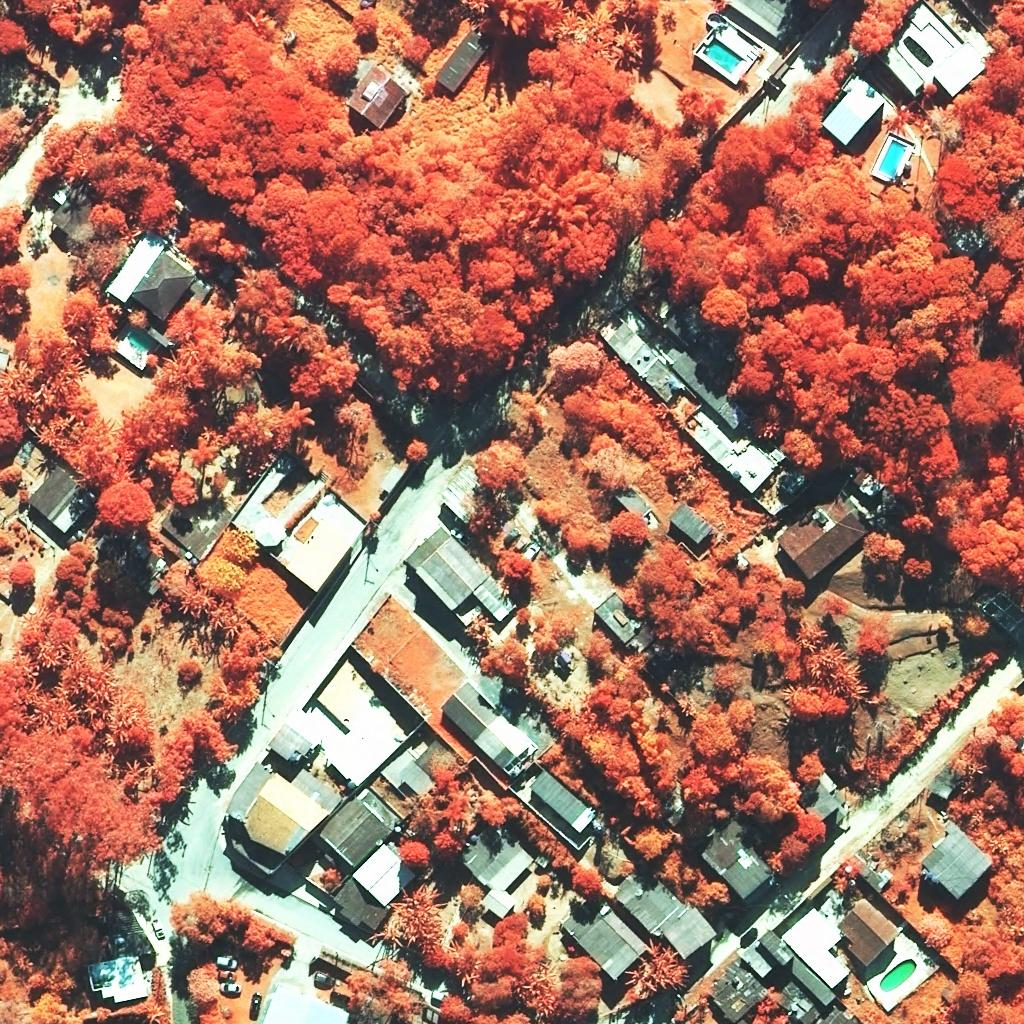pool: (703, 38, 744, 74), (880, 959, 916, 992), (878, 140, 907, 177), (128, 332, 151, 352)
